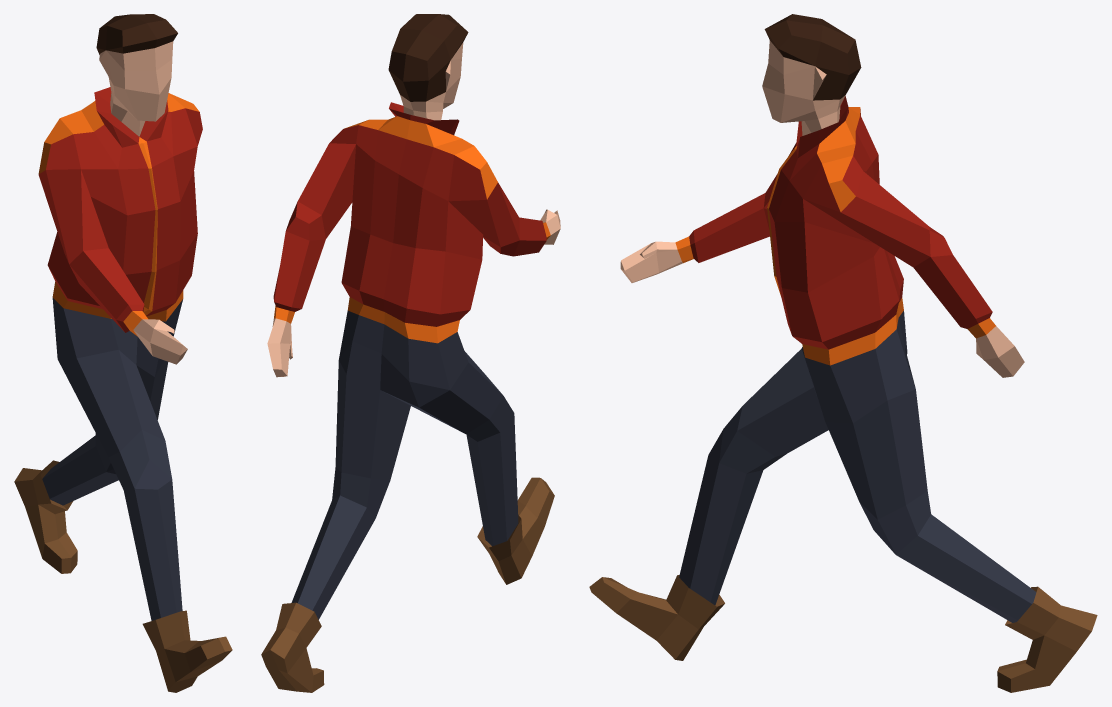
Rendered from AutumnManC.002.glb.
3 views of the same model, side by side, from view 1: azimuth 30°, elevation 25°; view 2: azimuth 150°, elevation 25°; view 3: azimuth 270°, elevation 25° (orthographic). The views are drawn at different scales.
Parts seen in each view (by area): view 1: AutumnManC.002; view 2: AutumnManC.002; view 3: AutumnManC.002.
Boxes of the visible parts, x1,y1,x2,y2 form: AutumnManC.002: (14, 14, 232, 692); AutumnManC.002: (261, 14, 560, 692); AutumnManC.002: (589, 14, 1097, 692).
Bounding box in the file's own units: 0.4585 × 1.64 × 1.16.
Materials: 1 (1 with a texture image).
